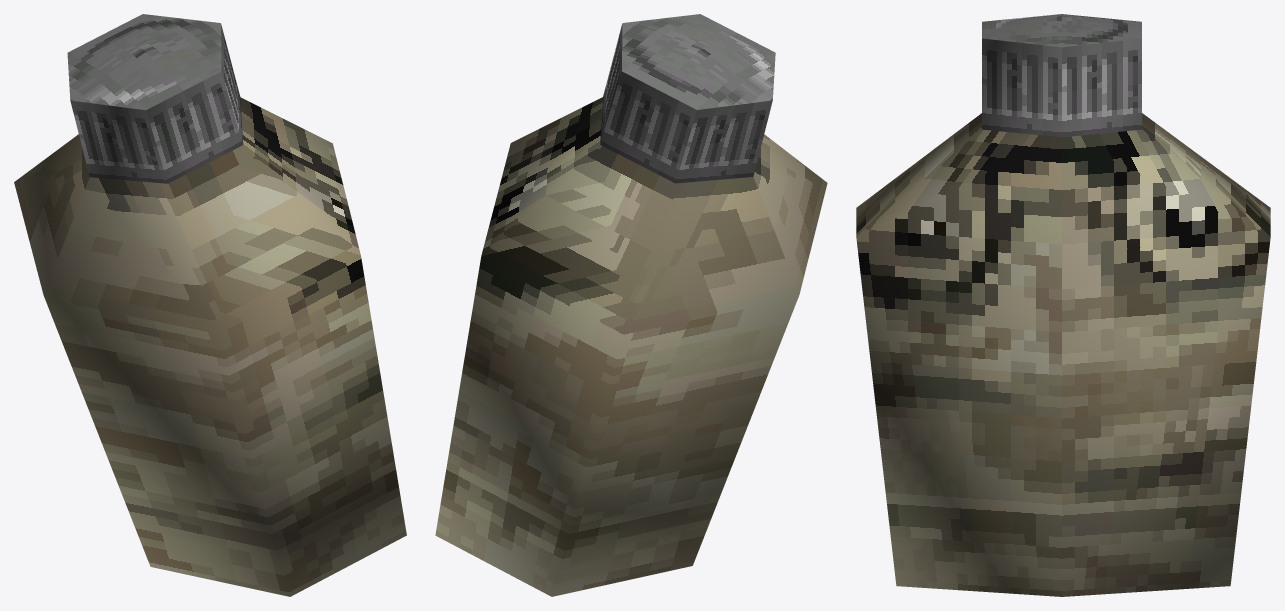
Rendered from UK_BottlePouch01.glb.
3 renders of one model, left to right at view 1: azimuth 30°, elevation 25°; view 2: azimuth 150°, elevation 25°; view 3: azimuth 270°, elevation 25°, orthographic.
Parts seen in each view (by area): view 1: UK_BOTTLEPOUCH01; view 2: UK_BOTTLEPOUCH01; view 3: UK_BOTTLEPOUCH01.
Boxes of the visible parts, left/top/right/bottom form: UK_BOTTLEPOUCH01: left=14, top=14, right=406, bottom=596; UK_BOTTLEPOUCH01: left=435, top=14, right=827, bottom=596; UK_BOTTLEPOUCH01: left=856, top=14, right=1270, bottom=596.
Bounding box in the file's own units: 0.14 × 0.207 × 0.145.
1 material, 1 textured.
